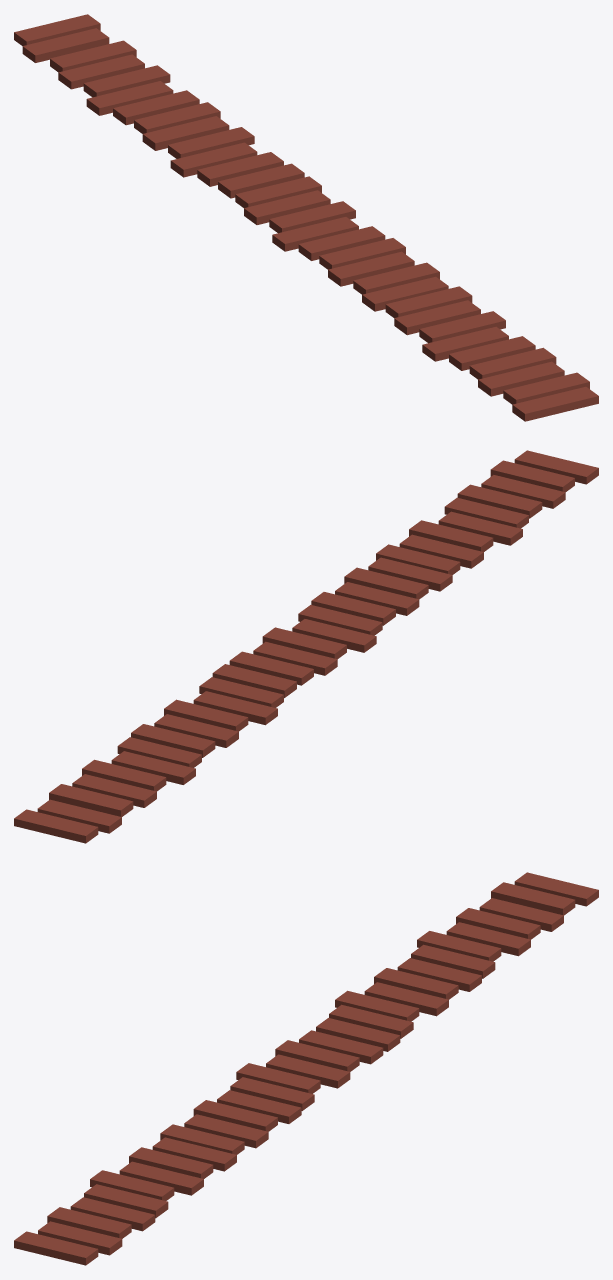
File: bridge.glb
3 renders of one model, top to bottom at view 1: azimuth 30°, elevation 25°; view 2: azimuth 150°, elevation 25°; view 3: azimuth 330°, elevation 25°, orthographic. The views are drawn at different scales.
Parts seen in each view (by area): view 1: bridge; view 2: bridge; view 3: bridge.
Part boxes in pixels (x1,y1,x2,y2): bridge: [14, 14, 598, 421]; bridge: [14, 450, 598, 843]; bridge: [14, 872, 598, 1265].
Bounding box in the file's own units: 2.37 × 0.2 × 24.34.
